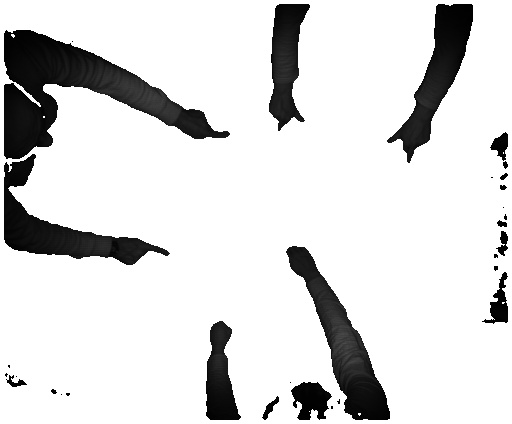fist: (208, 320, 231, 350)
hand: (386, 118, 439, 167), (116, 232, 175, 271), (264, 88, 311, 135), (182, 103, 231, 143), (280, 240, 320, 280)
